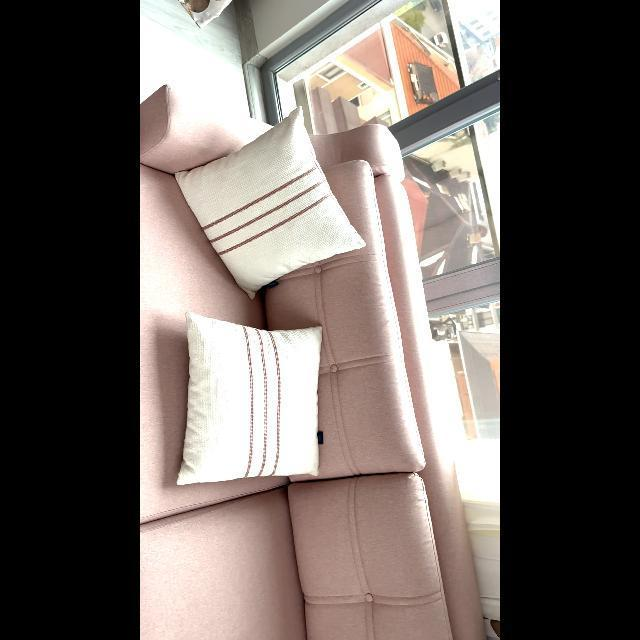throw pillow: (171, 96, 371, 306), (170, 309, 334, 493)
